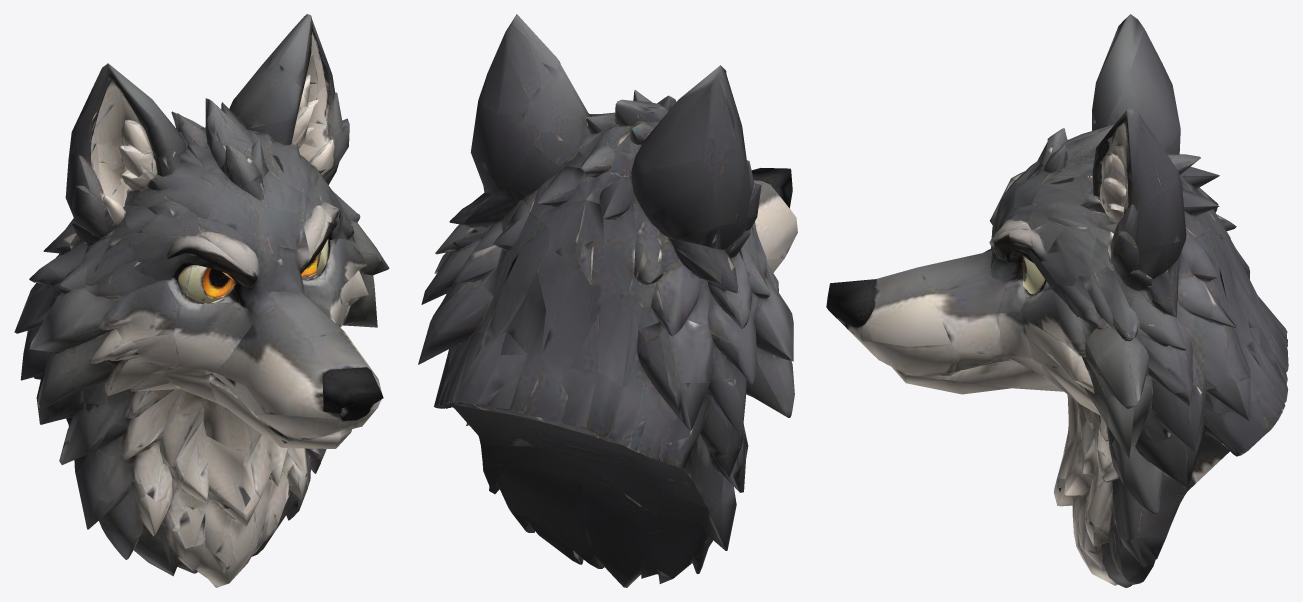
Rendered from hdWolfToon.glb.
3 renders of one model, left to right at view 1: azimuth 30°, elevation 25°; view 2: azimuth 150°, elevation 25°; view 3: azimuth 270°, elevation 25°, orthographic. The views are drawn at different scales.
Bounding box in the file's own units: 1.29 × 1.89 × 1.51.
Materials: 1 (1 with a texture image).
